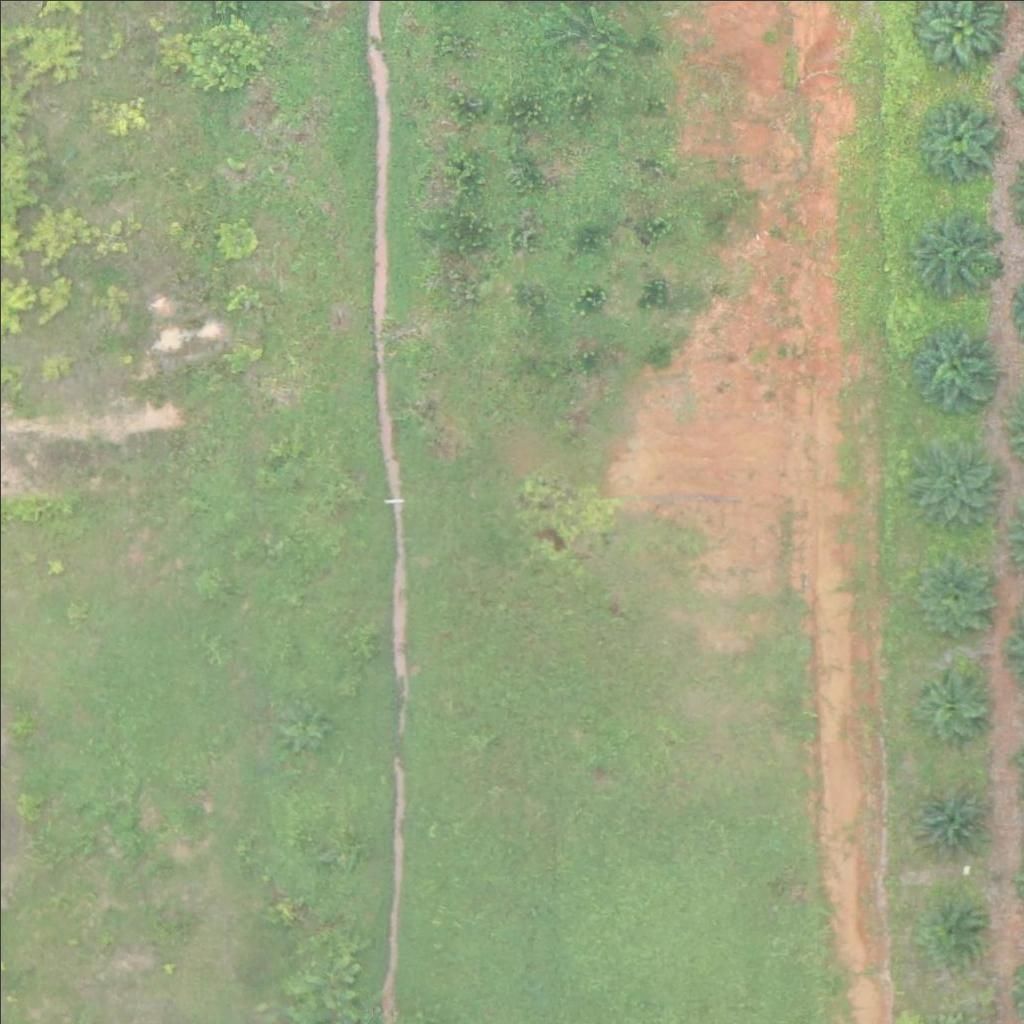Kelapa_Sawit: (903, 315, 1003, 416), (909, 654, 997, 742), (907, 207, 995, 295), (911, 93, 999, 181), (906, 773, 993, 861), (910, 553, 997, 641), (910, 438, 997, 526), (925, 900, 988, 963)
